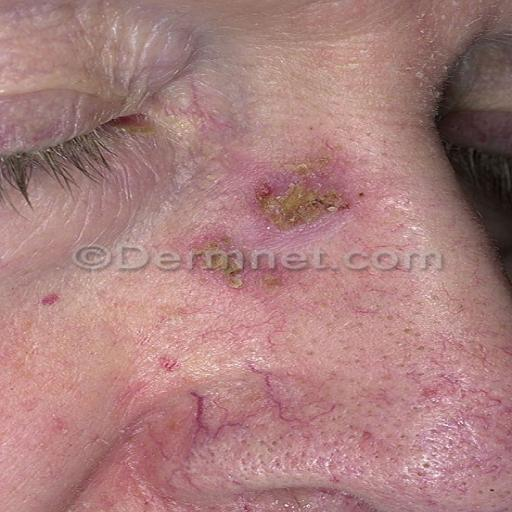Skin_Lesion: (246, 162, 352, 232), (373, 444, 472, 510), (218, 425, 312, 481), (184, 234, 262, 290), (144, 311, 186, 380), (37, 284, 60, 318)
